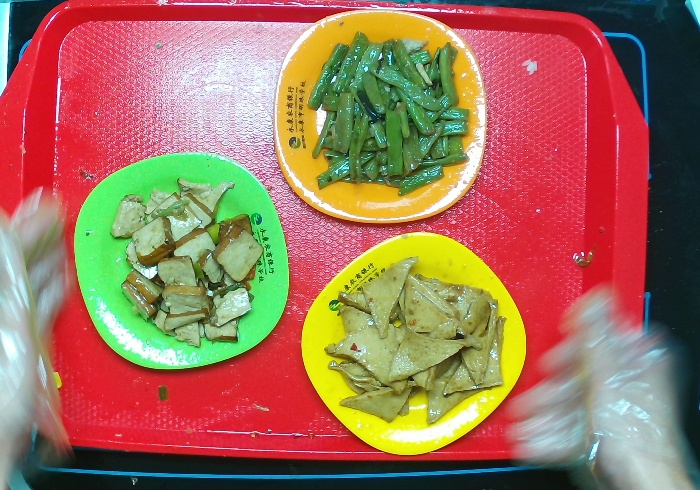YKMZ-Huang_Se_Fang_Die: (291, 229, 536, 463)
YKMZ-Ju_Se_Fang_Die: (269, 7, 493, 234)
YKMZ-Lv_Se_Fang_Die: (70, 144, 296, 372)
